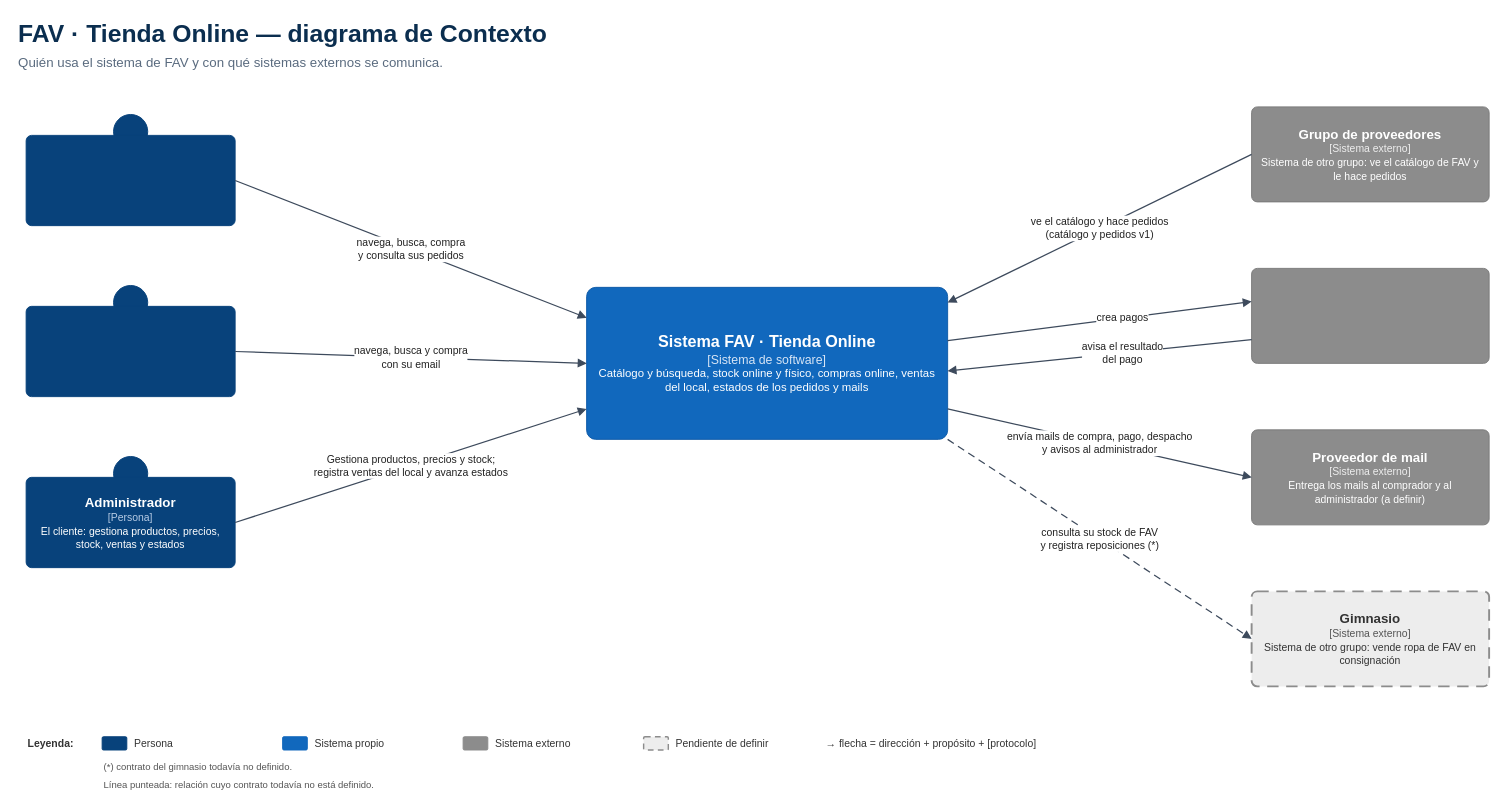
Some shapes in this 1506 by 808 pixel diagram are drawn without their labels. Each missing label, with the centre of its shape:
Comprador invitado [Persona] Compra online sin cuenta, solo con su email: (130,351)
Comprador registrado [Persona] Compra online y consulta el estado de sus pedidos: (130,180)
Mercado Pago [Sistema externo] Procesa los pagos online y avisa el resultado: (1370,315)
